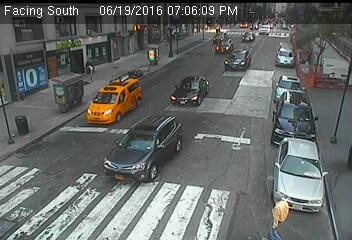neg: (117, 63, 136, 88)
pos: (262, 186, 301, 238)
